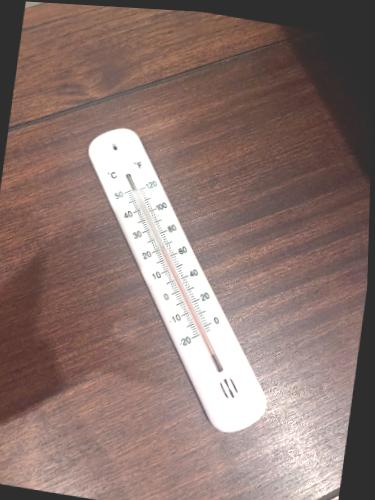thermo: (84, 119, 273, 439)
